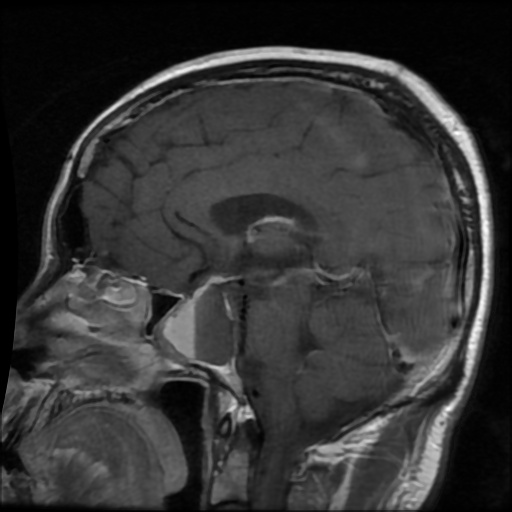pituitary: (155, 268, 241, 366)
